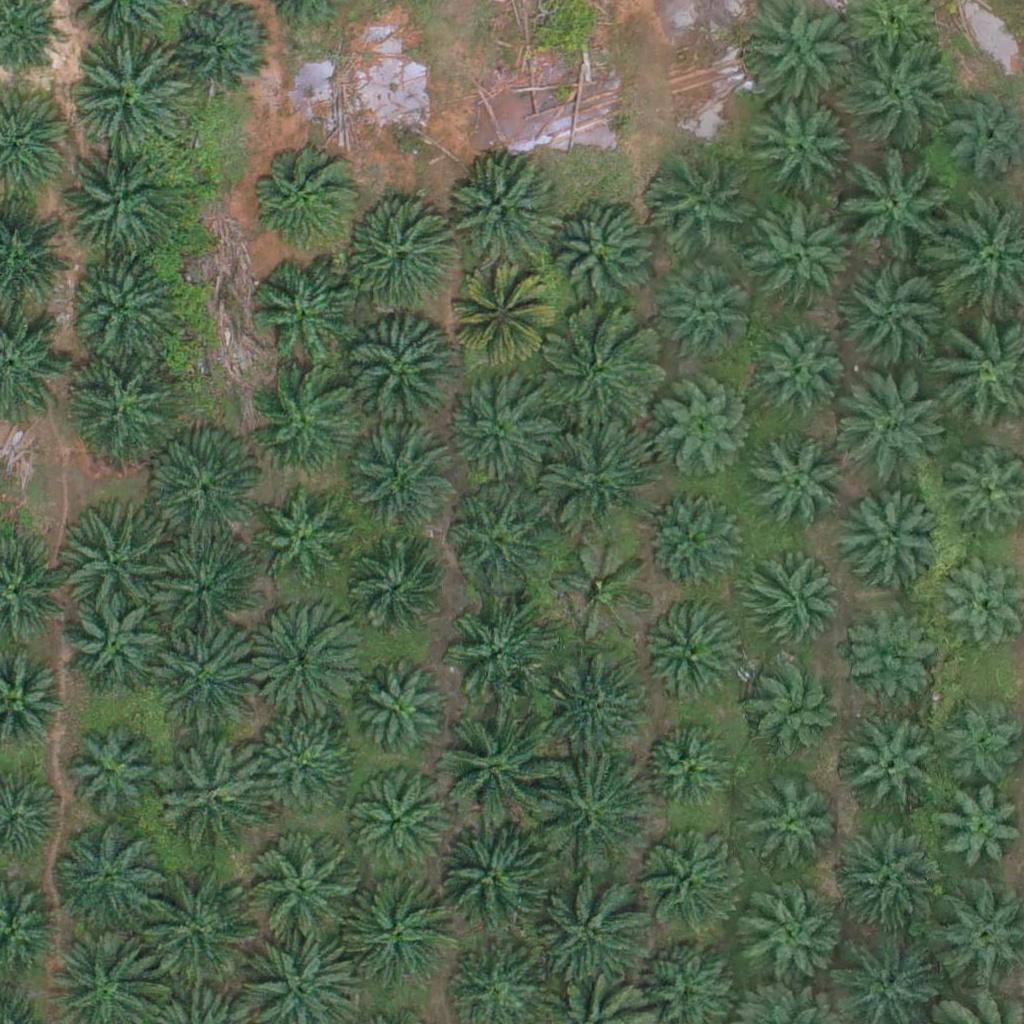Kelapa_Sawit: (437, 819, 550, 933), (244, 603, 357, 717), (153, 619, 266, 733), (70, 246, 183, 360), (61, 151, 174, 265), (836, 259, 949, 372), (830, 828, 943, 941), (531, 873, 644, 986), (534, 644, 647, 757), (538, 424, 651, 537), (542, 312, 655, 425), (436, 713, 549, 826), (345, 319, 458, 432), (339, 877, 452, 990), (247, 261, 360, 374), (249, 838, 362, 951), (158, 737, 271, 850), (839, 155, 952, 268), (541, 200, 654, 313), (835, 376, 947, 490), (534, 758, 646, 872), (250, 366, 362, 480), (51, 820, 163, 934), (248, 138, 360, 252), (442, 592, 554, 705), (151, 441, 263, 554), (140, 870, 252, 983), (62, 349, 174, 462), (62, 497, 174, 610), (845, 38, 957, 151), (747, 188, 859, 301), (641, 151, 753, 264), (444, 157, 556, 270), (334, 201, 446, 314), (76, 42, 188, 155), (842, 492, 942, 593), (846, 721, 946, 822), (747, 434, 847, 535), (739, 554, 839, 655), (744, 654, 844, 755), (740, 886, 840, 987), (645, 489, 745, 590), (642, 605, 742, 706), (641, 831, 741, 932), (443, 378, 543, 479), (445, 490, 545, 591), (351, 435, 451, 536), (346, 775, 446, 876), (252, 490, 352, 591), (63, 725, 163, 826), (64, 595, 164, 696), (752, 102, 852, 203), (838, 604, 938, 704), (648, 384, 748, 484), (554, 540, 654, 640), (449, 272, 549, 372), (343, 549, 443, 649), (254, 722, 354, 822), (154, 538, 254, 638), (356, 669, 444, 758), (644, 730, 732, 818), (759, 329, 846, 417), (748, 782, 835, 870), (661, 274, 748, 362)
